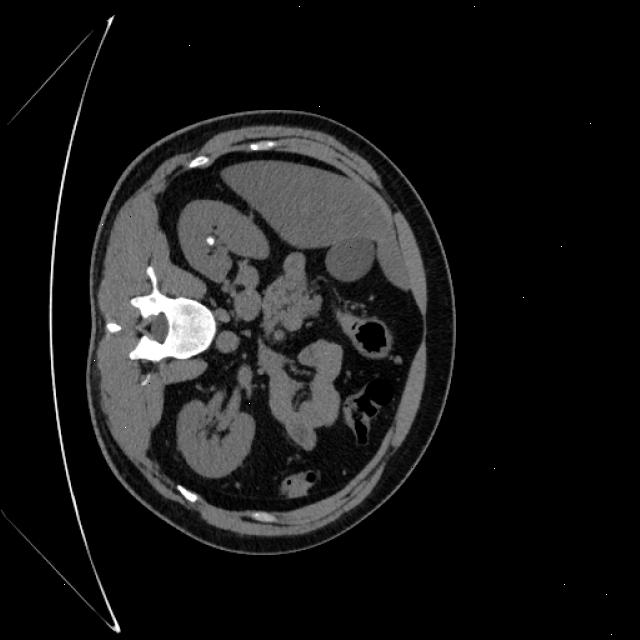kidneystone: (206, 236, 214, 245)
